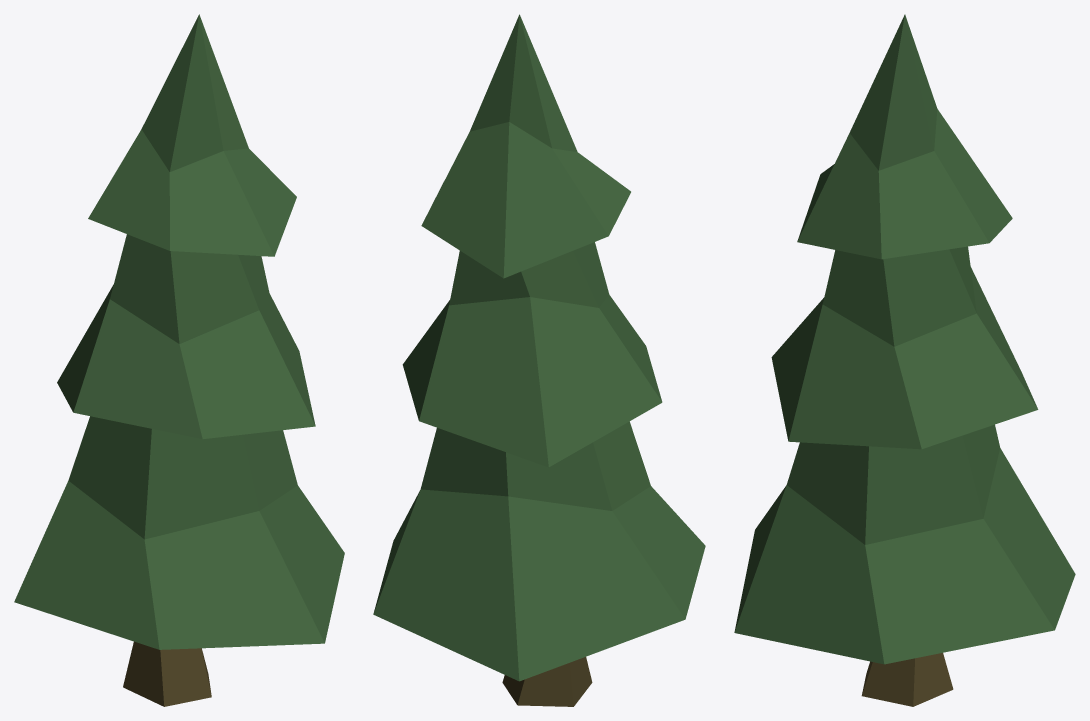
File: trees3.fbx
The picture shows the model from 3 angles, left to right: view 1: azimuth 30°, elevation 25°; view 2: azimuth 150°, elevation 25°; view 3: azimuth 270°, elevation 25°; orthographic projection. The views are drawn at different scales.
Visible parts, largest first — view 1: SpruceTree1; view 2: SpruceTree1; view 3: SpruceTree1.
Boxes of the visible parts, <box> form: SpruceTree1: <box>14,14,344,706</box>; SpruceTree1: <box>373,14,705,706</box>; SpruceTree1: <box>734,14,1075,706</box>.
Size of the model in its own units: 590 by 1209 by 544.
